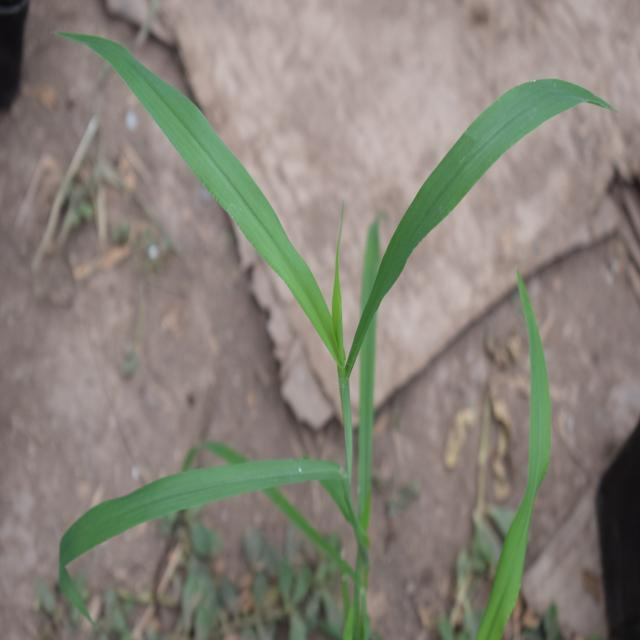crabgrass: (49, 29, 558, 535)
